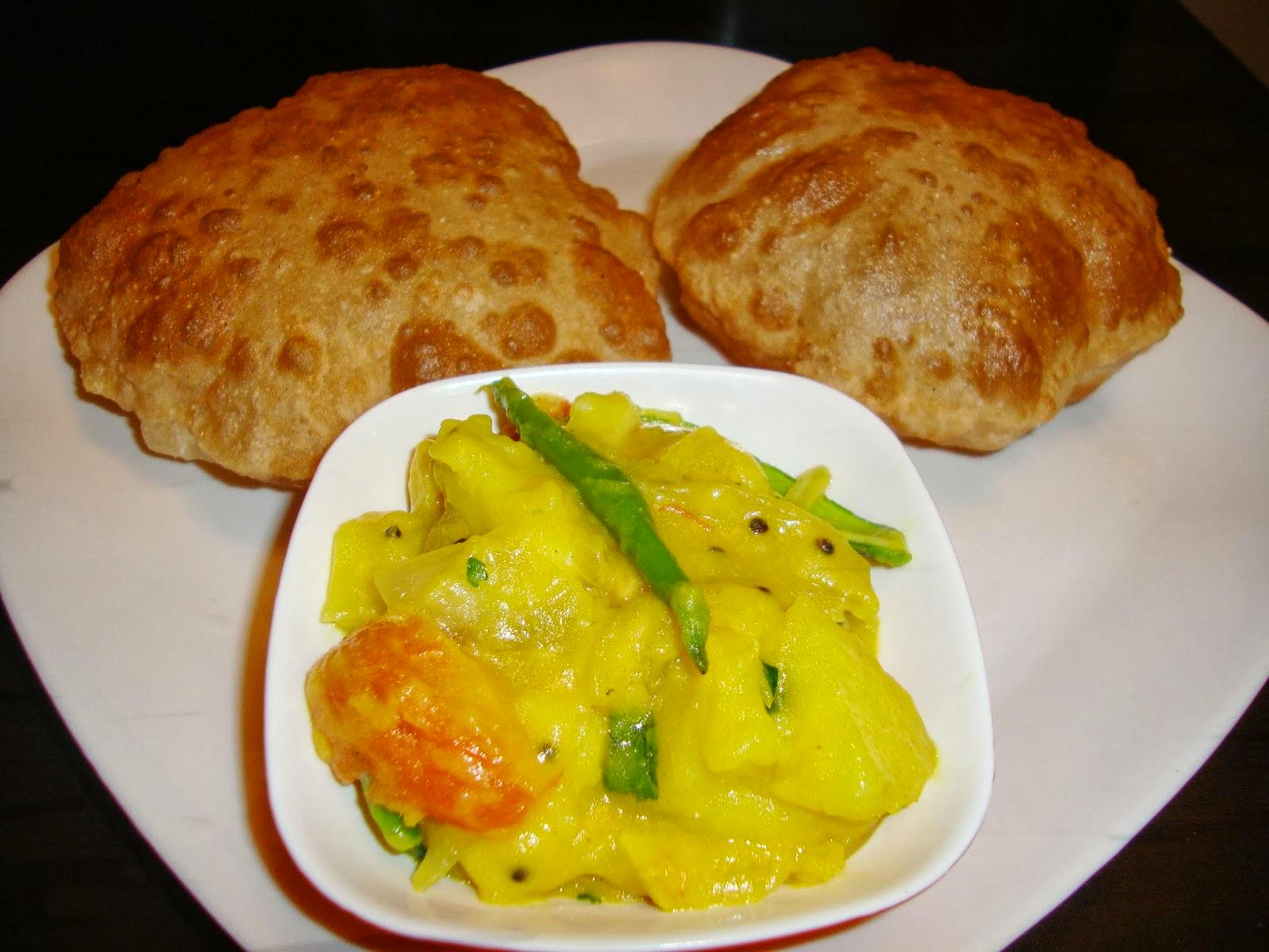puri: (56, 42, 1269, 368)
